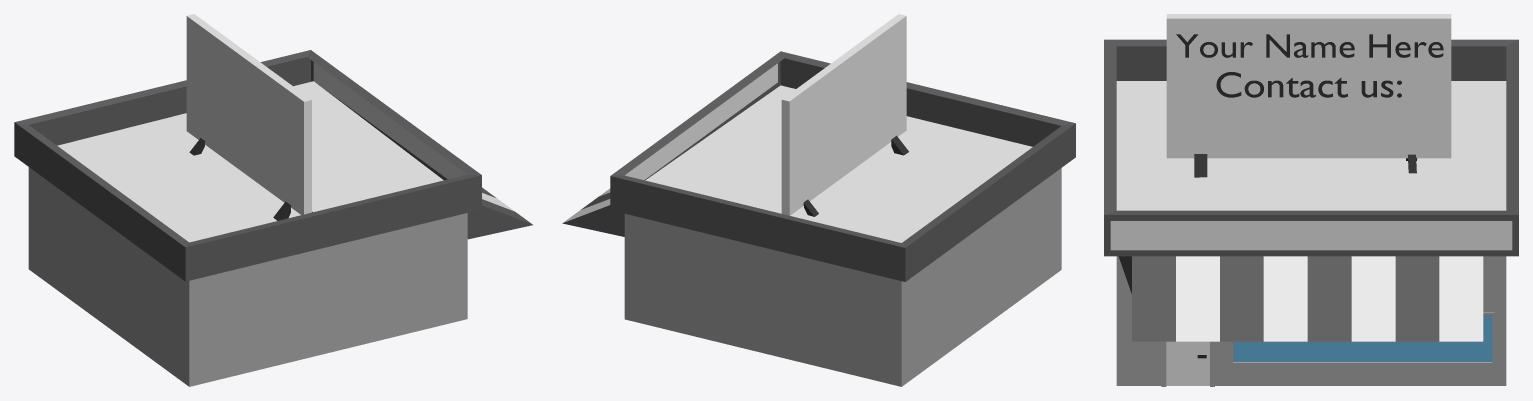
The model's file is greyscale Shop 2.fbx.
The picture shows the model from 3 angles, left to right: view 1: azimuth 30°, elevation 25°; view 2: azimuth 150°, elevation 25°; view 3: azimuth 270°, elevation 25°; orthographic projection. The views are drawn at different scales.
Visible parts, largest first — view 1: Cube.001; view 2: Cube.001; view 3: Cube.001.
Part boxes in pixels (box(x1,y1,x2,y2)): Cube.001: box(14, 14, 532, 386); Cube.001: box(562, 14, 1075, 386); Cube.001: box(1104, 14, 1518, 386).
Size of the model in its own units: 258 by 163 by 213.
